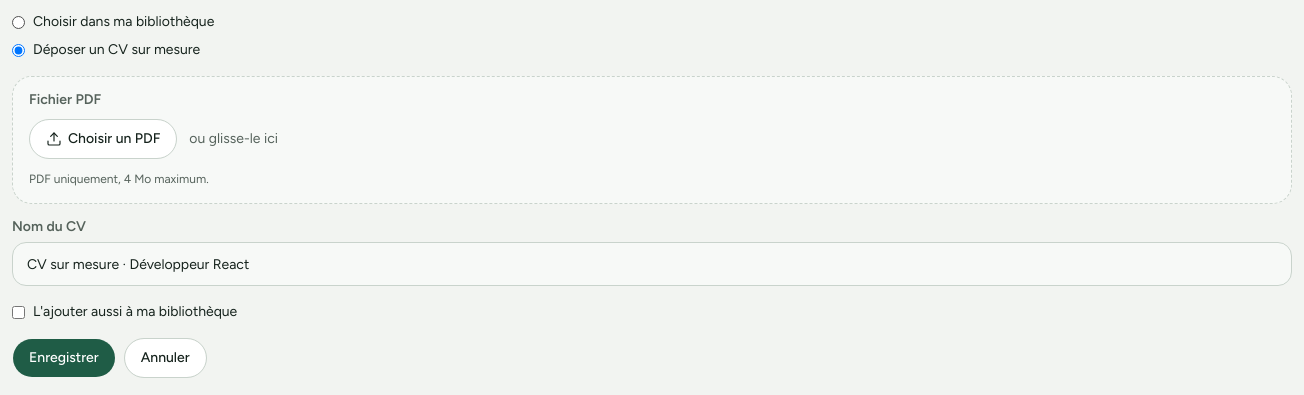
Test: SentCvEditForm › shows a loading failure hint instead of the empty library hint when the cvs could not be loaded
Click the radio button labelled "Choisir dans ma bibliothèque" at (18, 22), box [12,16,25,28]
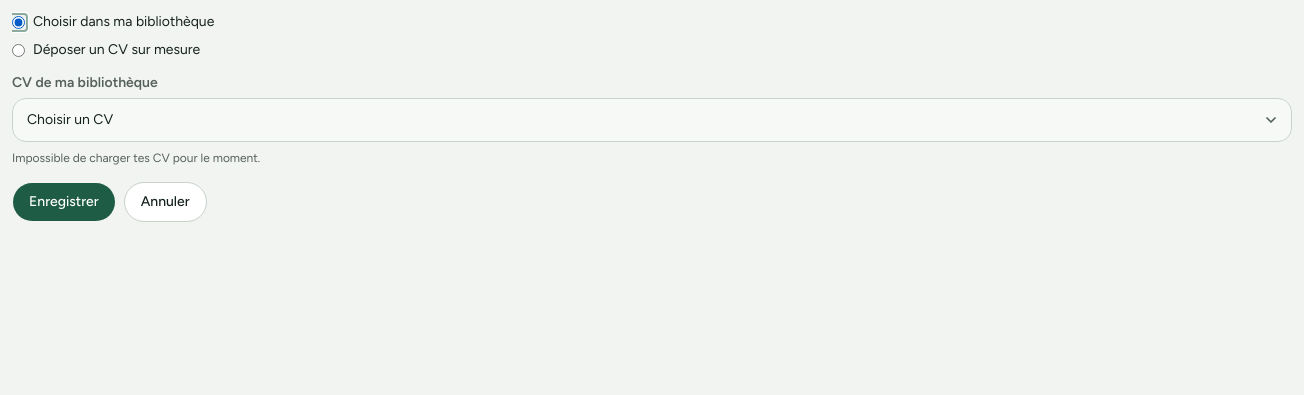
Expected: the text "Impossible de charger tes CV pour le moment." is shown, [12,151,260,165]
